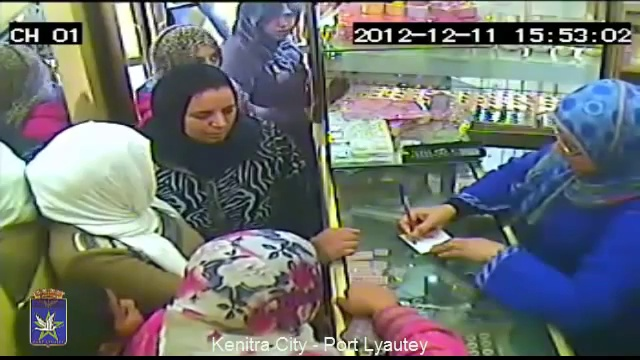face: (189, 95, 236, 134), (265, 8, 303, 38)
